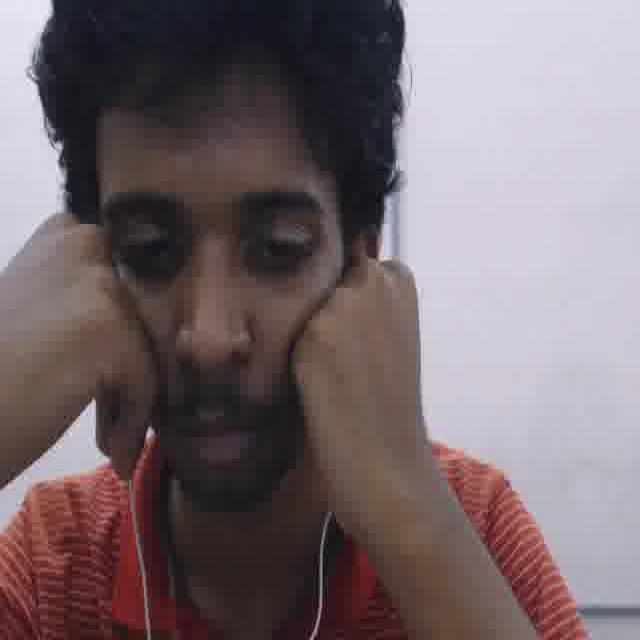Boredom: (79, 77, 353, 531)
